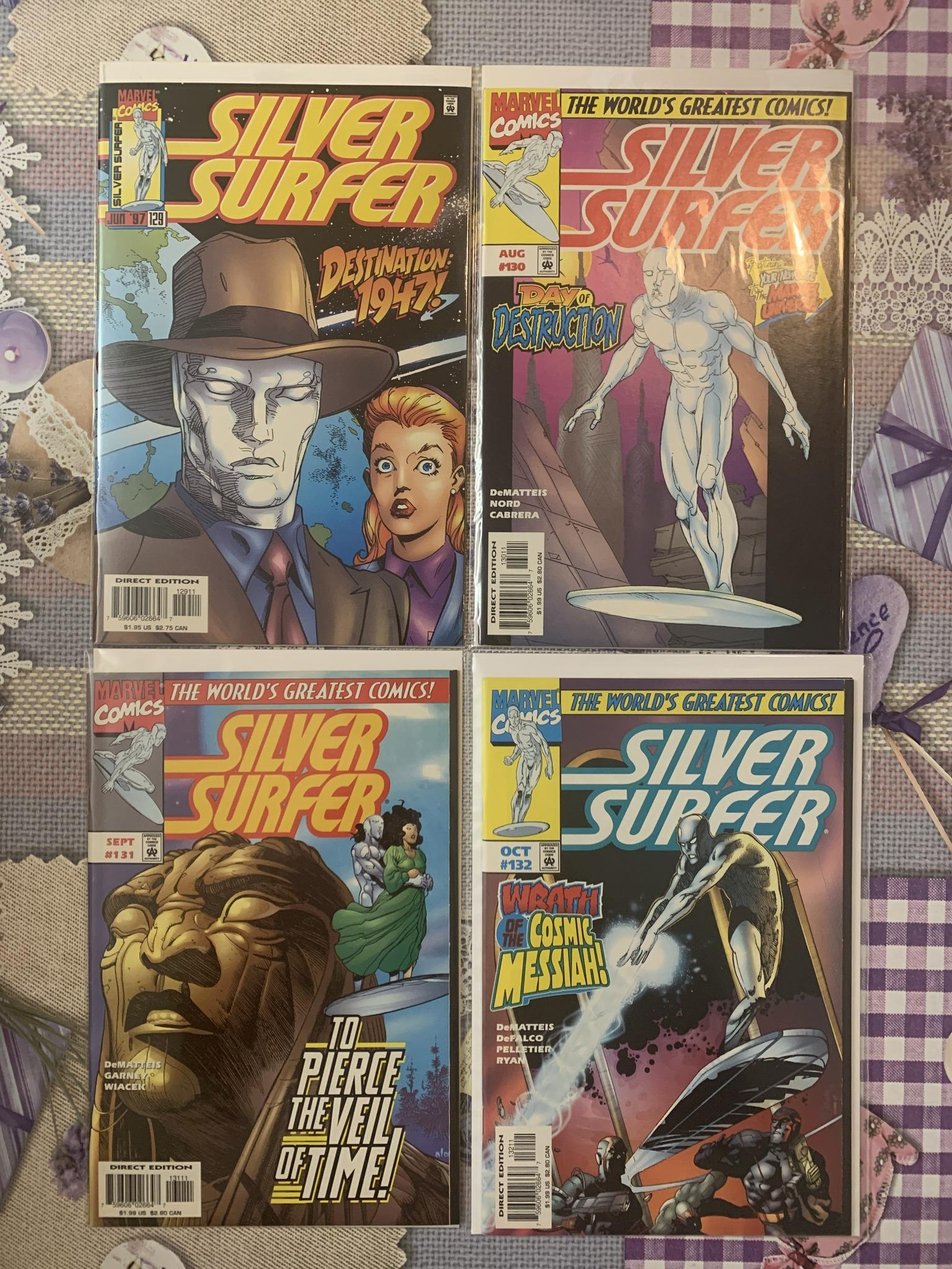comic: (471, 653, 862, 1240), (92, 62, 472, 650), (475, 66, 851, 649), (89, 649, 458, 1226)
